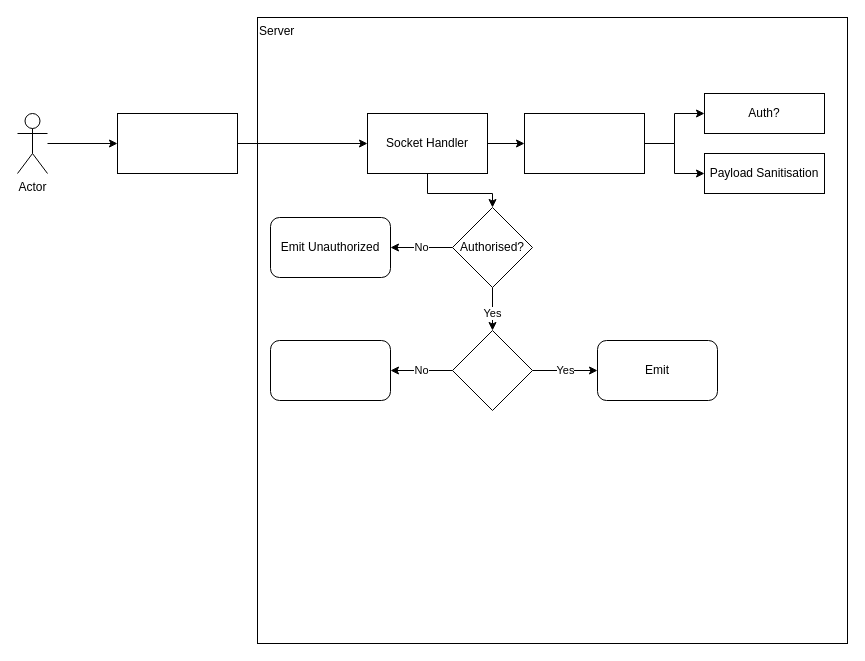
Image size: 865x661. Some labels were removed from this diagram. Here are the shapes that lost their labels. From the top down, the centre of each, then its label:
At [177,143]: "Socket Message".
At [584,143]: "Sanitizer".
At [330,370]: "Emit Invalid Request".
At [492,370]: "Validated".
